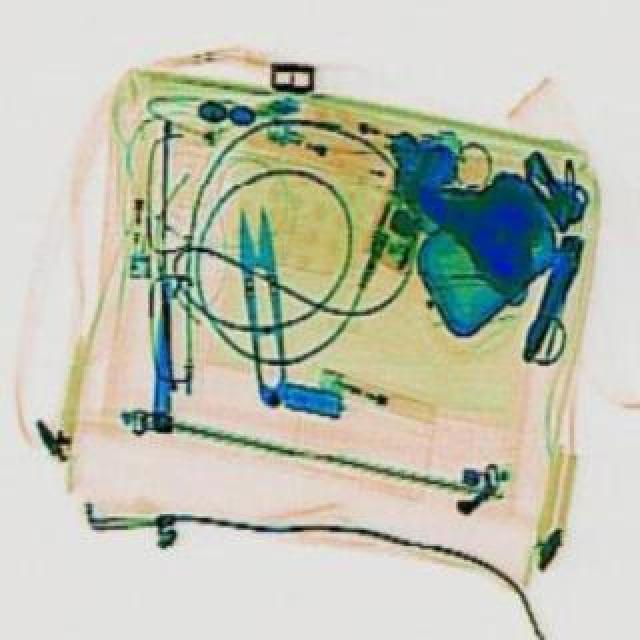pliers: (230, 202, 294, 406)
